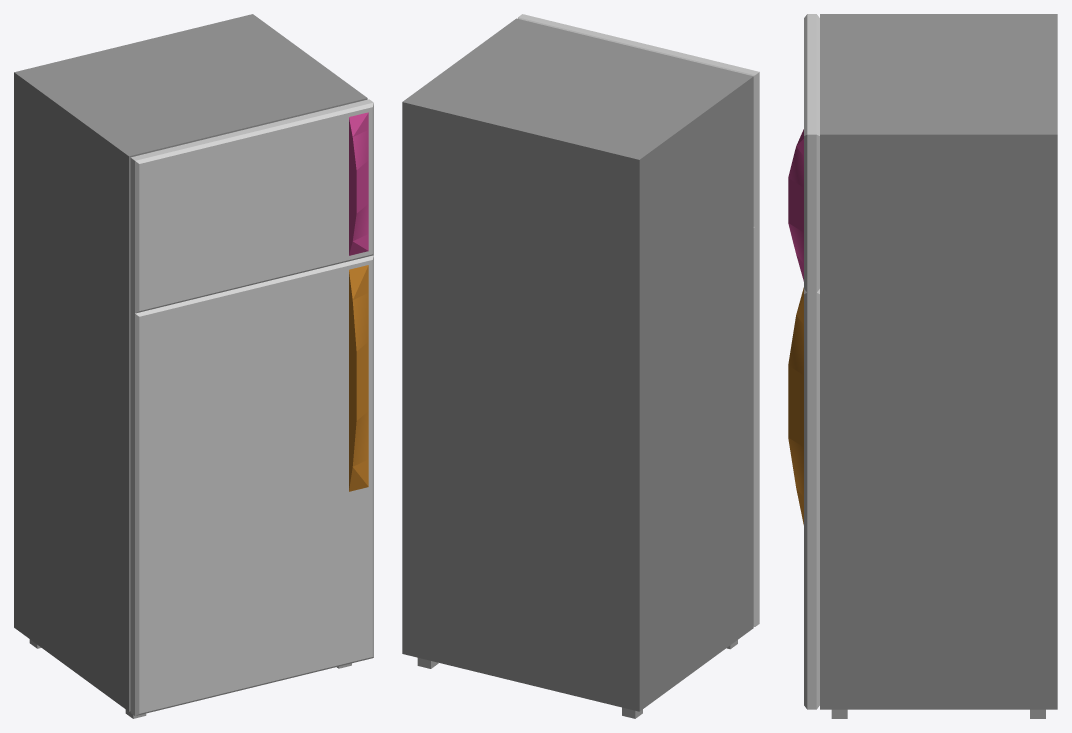
The model's file is Fridge.fbx.
The picture shows the model from 3 angles, left to right: view 1: azimuth 30°, elevation 25°; view 2: azimuth 150°, elevation 25°; view 3: azimuth 270°, elevation 25°; orthographic projection. The views are drawn at different scales.
Parts seen in each view (by area): view 1: object3, object2, object1; view 2: object2, object3, object1; view 3: object2, object3, object1.
Part boxes in pixels (x1,y1,x2,y2): object3: [130, 255, 373, 715]; object2: [14, 14, 367, 718]; object1: [130, 99, 373, 313]; object2: [402, 18, 753, 718]; object3: [753, 224, 759, 626]; object1: [518, 14, 759, 226]; object2: [820, 14, 1057, 718]; object3: [788, 287, 819, 709]; object1: [788, 14, 819, 292].
Bounding box in the file's own units: 90 × 205 × 85.
